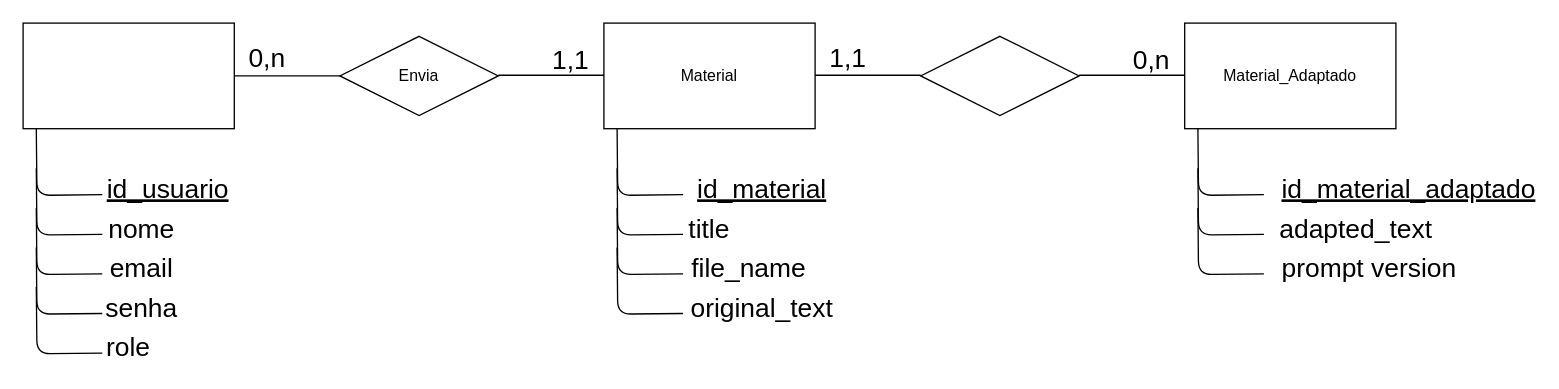
The diagram is 1559 pixels wide and 389 high, and some of its shapes have lost their labels. The shapes that lost their labels are listed below. From the top down, each one's centre as x and y in pixels, then its label:
At (128,75): "Usuário".
At (999,75): "Gera".
